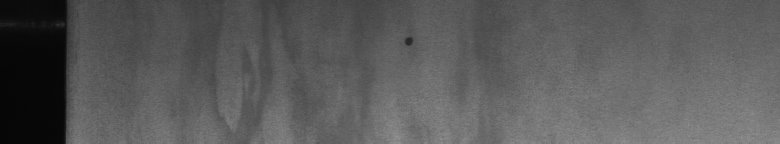fi: (398, 32, 416, 52)
